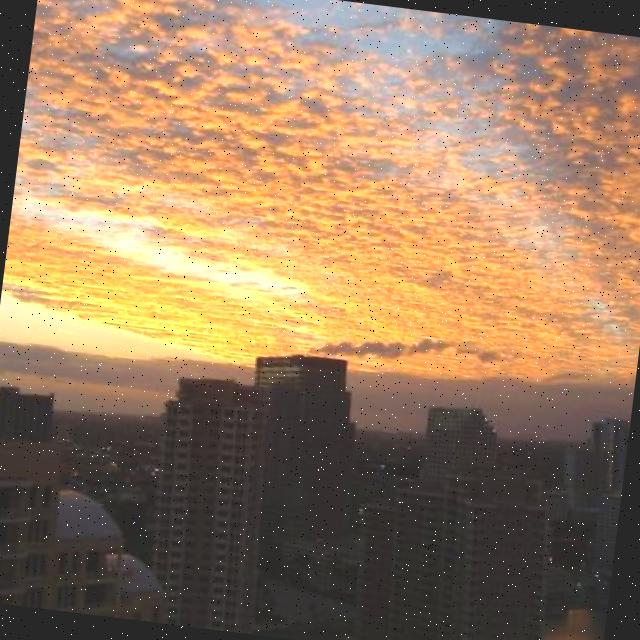Ac: (1, 1, 640, 399)
